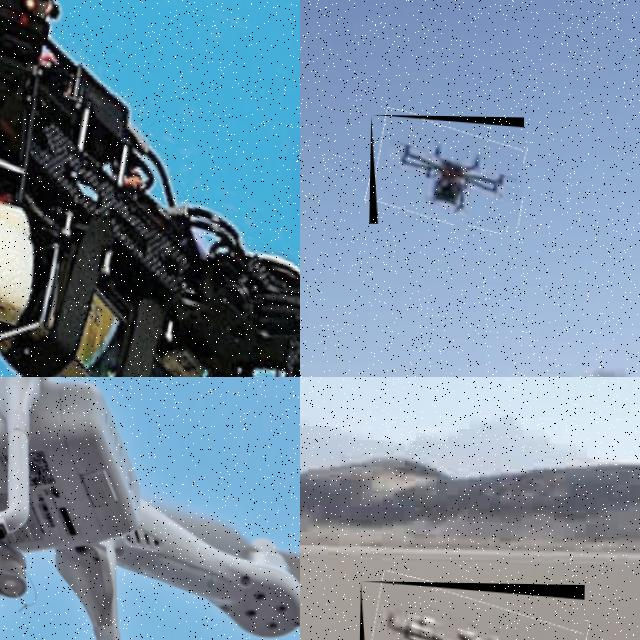0: (368, 114, 524, 226), (357, 581, 584, 640)
drone: (0, 0, 300, 377), (0, 377, 300, 640)
